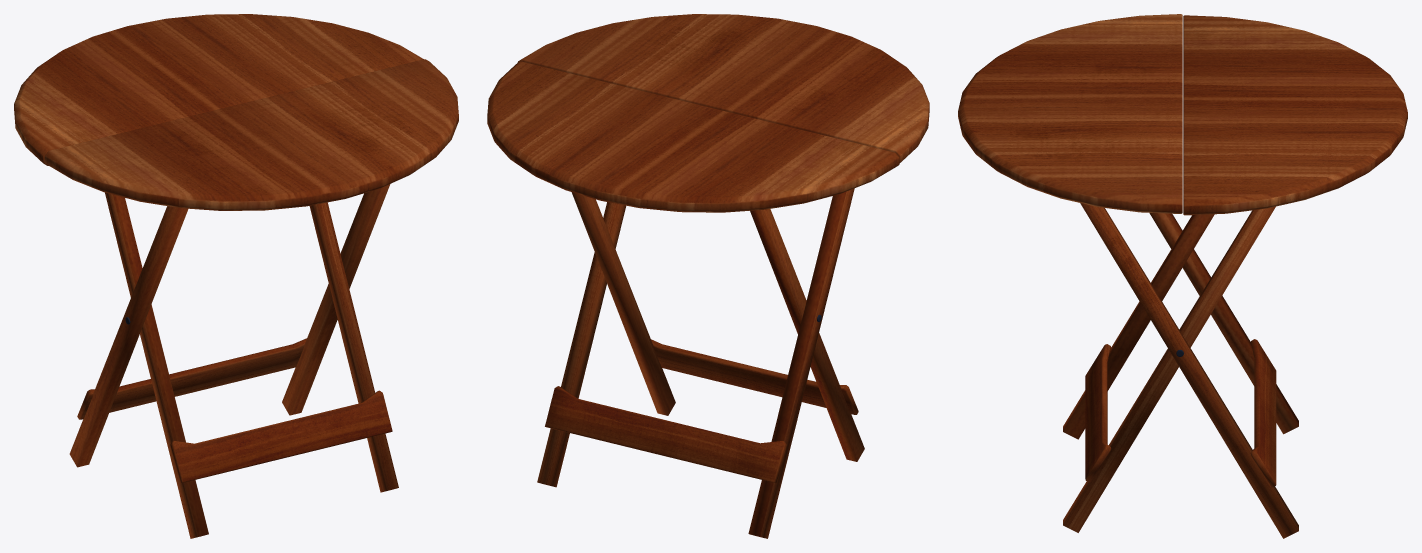
The picture shows the model from 3 angles, left to right: view 1: azimuth 30°, elevation 25°; view 2: azimuth 150°, elevation 25°; view 3: azimuth 270°, elevation 25°; orthographic projection.
Parts seen in each view (by area): view 1: Table; view 2: Table; view 3: Table.
Part boxes in pixels (x1=…): Table: x1=14, y1=14, x2=458, y2=538; Table: x1=487, y1=14, x2=929, y2=538; Table: x1=958, y1=14, x2=1407, y2=538.
Size of the model in its own units: 0.8588 by 0.7938 by 0.8604.
Materials: 1 (1 with a texture image).
